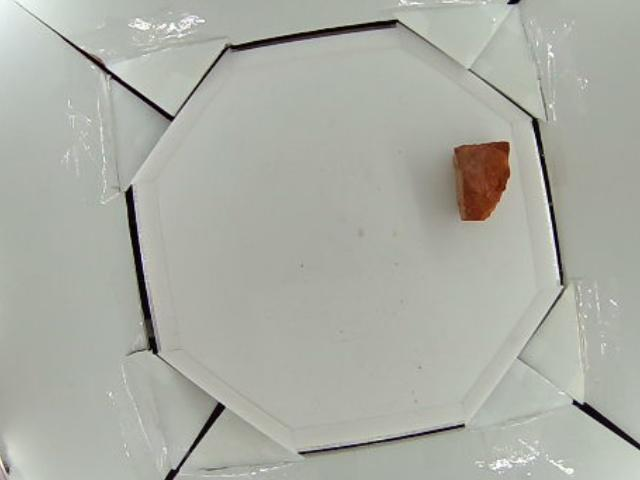Brisk: (451, 141, 513, 222)
